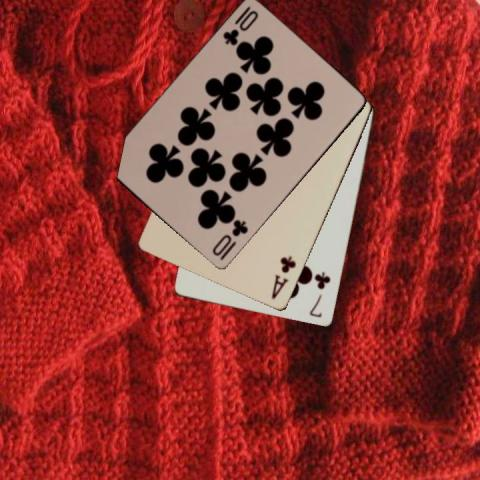10c: (209, 217, 250, 262), (219, 3, 260, 48)
7c: (307, 270, 332, 320)
Ac: (269, 254, 298, 301)
